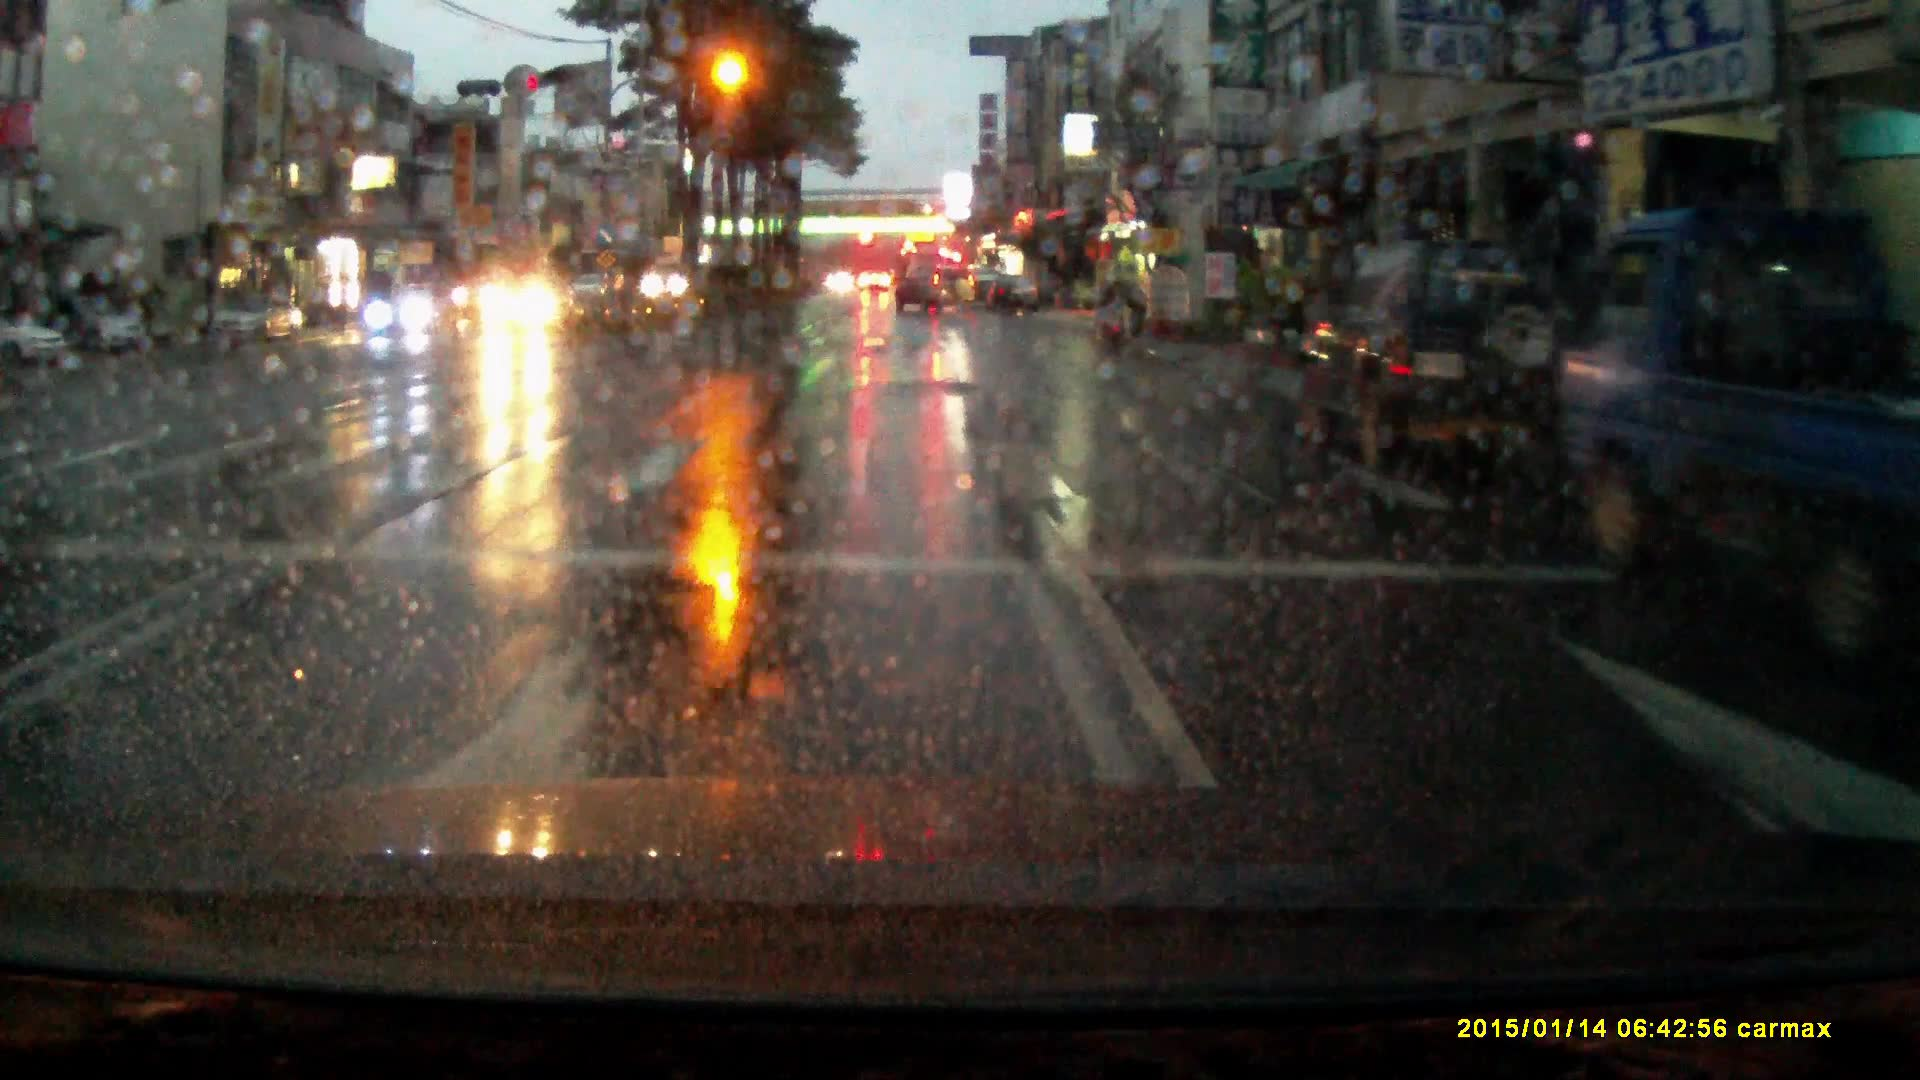vehicle: (1548, 218, 1912, 624), (1294, 248, 1596, 471), (477, 276, 578, 336), (208, 297, 306, 353), (369, 284, 454, 340), (894, 268, 976, 322), (83, 305, 150, 357), (1, 316, 69, 368), (899, 248, 945, 306), (985, 278, 1036, 319), (570, 276, 611, 307), (975, 272, 1005, 313), (857, 272, 895, 298)
